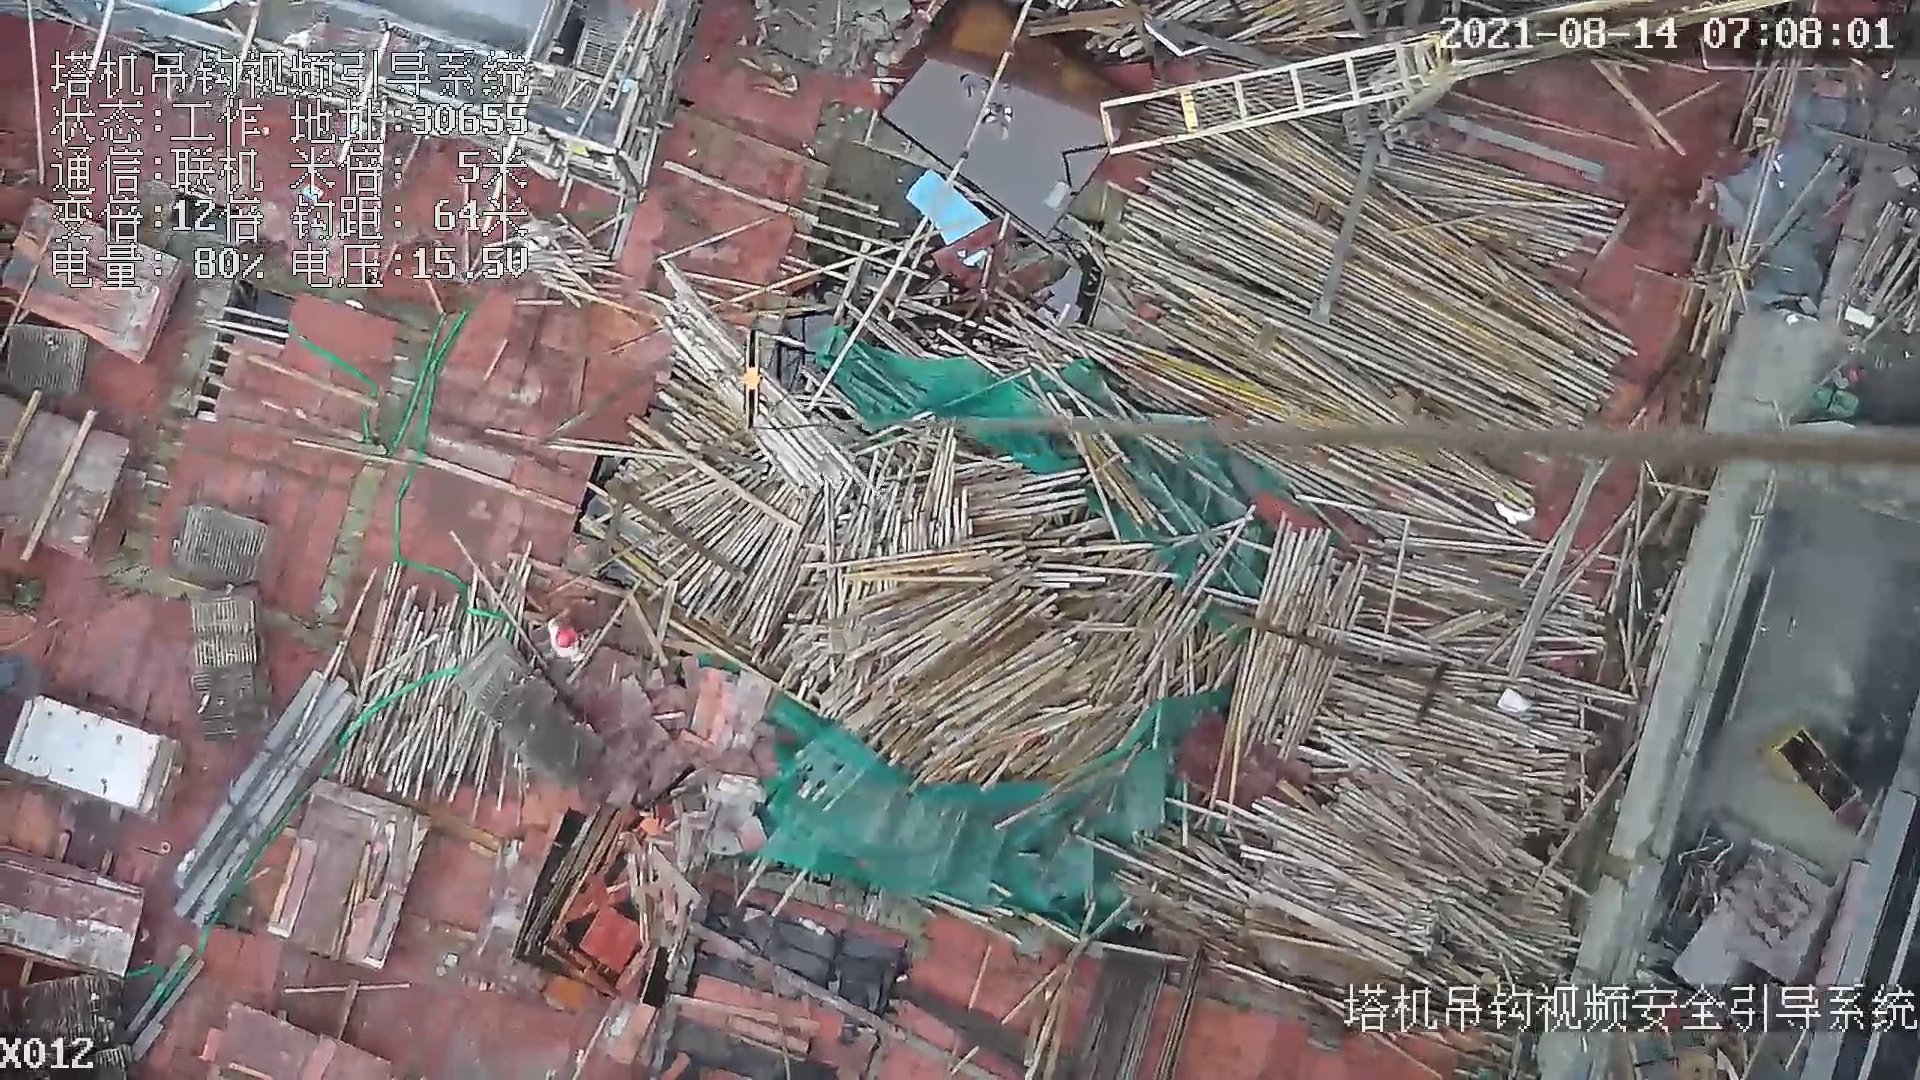helmet: (558, 625, 578, 650)
hook: (732, 324, 768, 430)
person: (550, 610, 591, 665)
